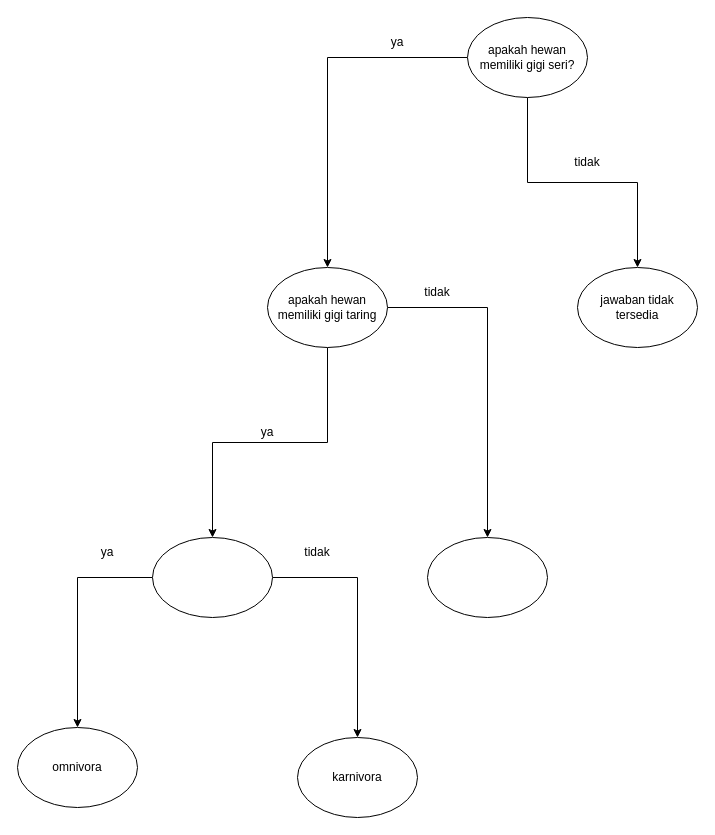
This 715x835 diagram has some shape labels left out. The centre of each missing label's shape, as x and y in pixels:
"apakah hewan memiliki gigi geraham?" belongs at (x=212, y=577).
"herbivora" belongs at (x=487, y=577).
